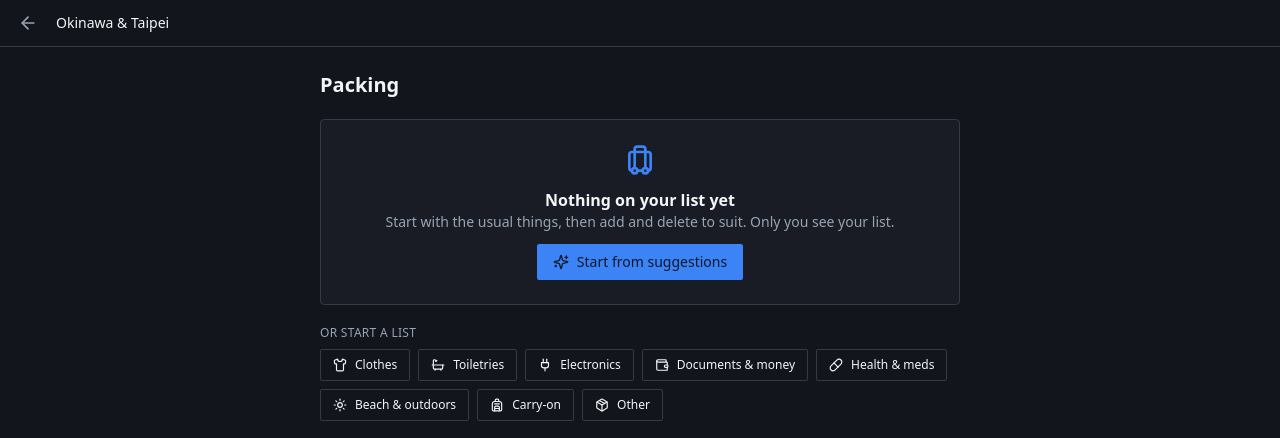
Test case: the Packing page › an empty list offers suggestions
Click the button "Start from suggestions" at (640, 262), box [537,244,743,280]
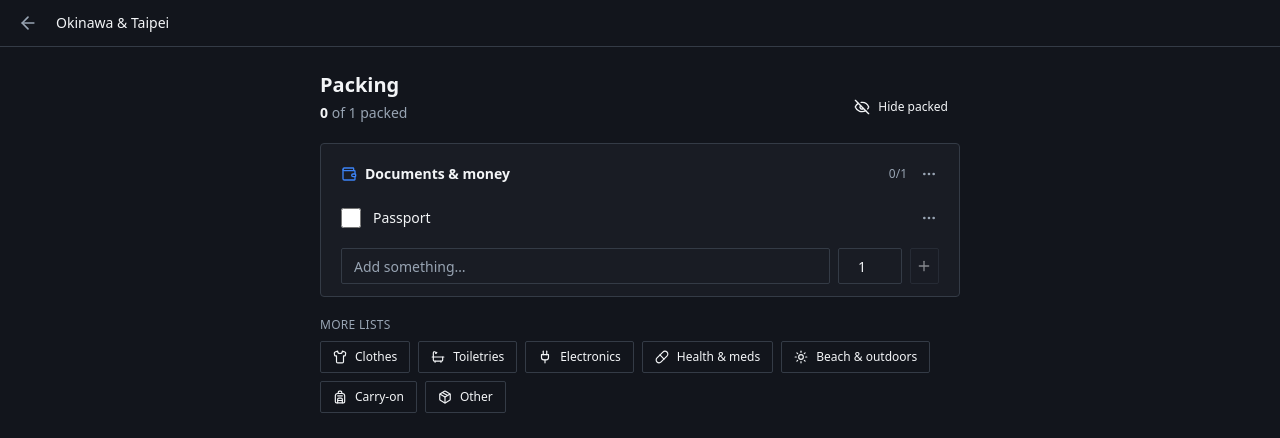
Now the checkbox labelled "Passport" is shown, box [341,208,361,228]
Now the button "Start from suggestions" is gone
